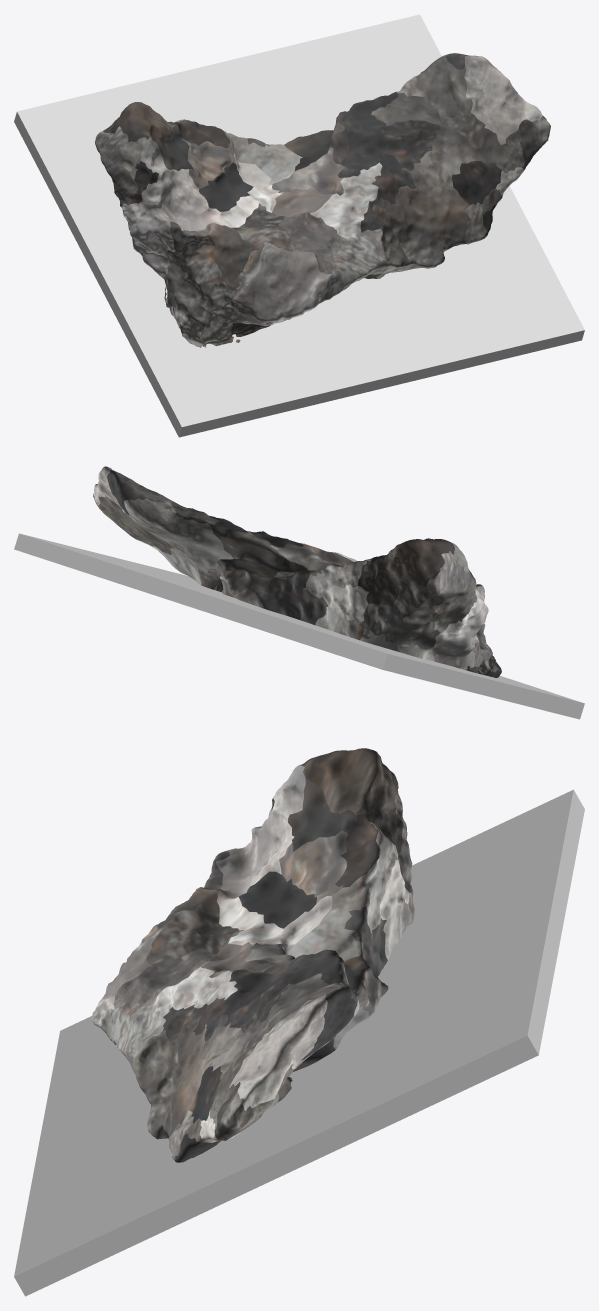
File: BacuHie.glb
3 renders of one model, top to bottom at view 1: azimuth 30°, elevation 25°; view 2: azimuth 150°, elevation 25°; view 3: azimuth 270°, elevation 25°, orthographic. The views are drawn at different scales.
Visible parts, largest first — view 1: Meteorito.002; view 2: Meteorito.002; view 3: Meteorito.002.
Boxes of the visible parts, box(x1,y1,x2,y2) form: Meteorito.002: box(14, 14, 584, 437); Meteorito.002: box(14, 466, 584, 719); Meteorito.002: box(14, 748, 584, 1296).
Bounding box in the file's own units: 0.9487 × 0.5103 × 0.7706.
Materials: 4 (3 with a texture image).
